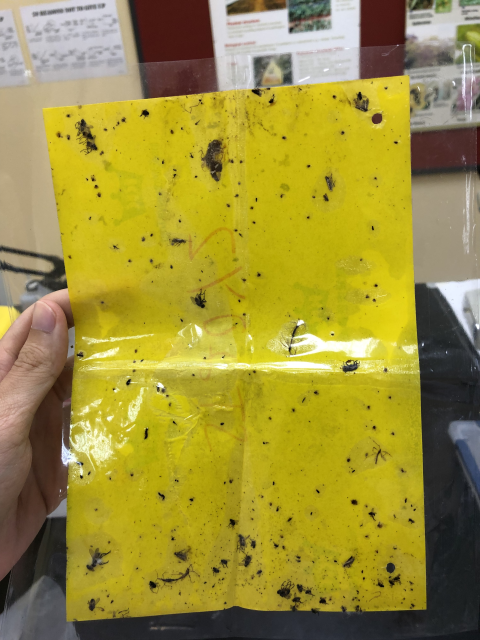DBM: (323, 173, 338, 193), (173, 549, 192, 563), (353, 98, 370, 113), (342, 555, 356, 570)
